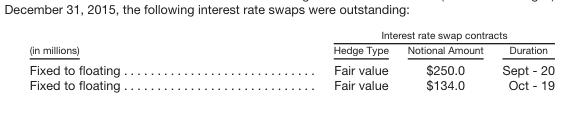table: (28, 28, 554, 92)
table column: (28, 28, 226, 92), (226, 28, 397, 92), (397, 28, 492, 92), (492, 28, 554, 92)
table column header: (28, 28, 554, 58)
table row: (28, 58, 554, 76), (28, 42, 554, 58), (28, 76, 554, 92), (28, 28, 554, 42)
table spanning cell: (28, 28, 226, 58), (226, 28, 554, 42)
